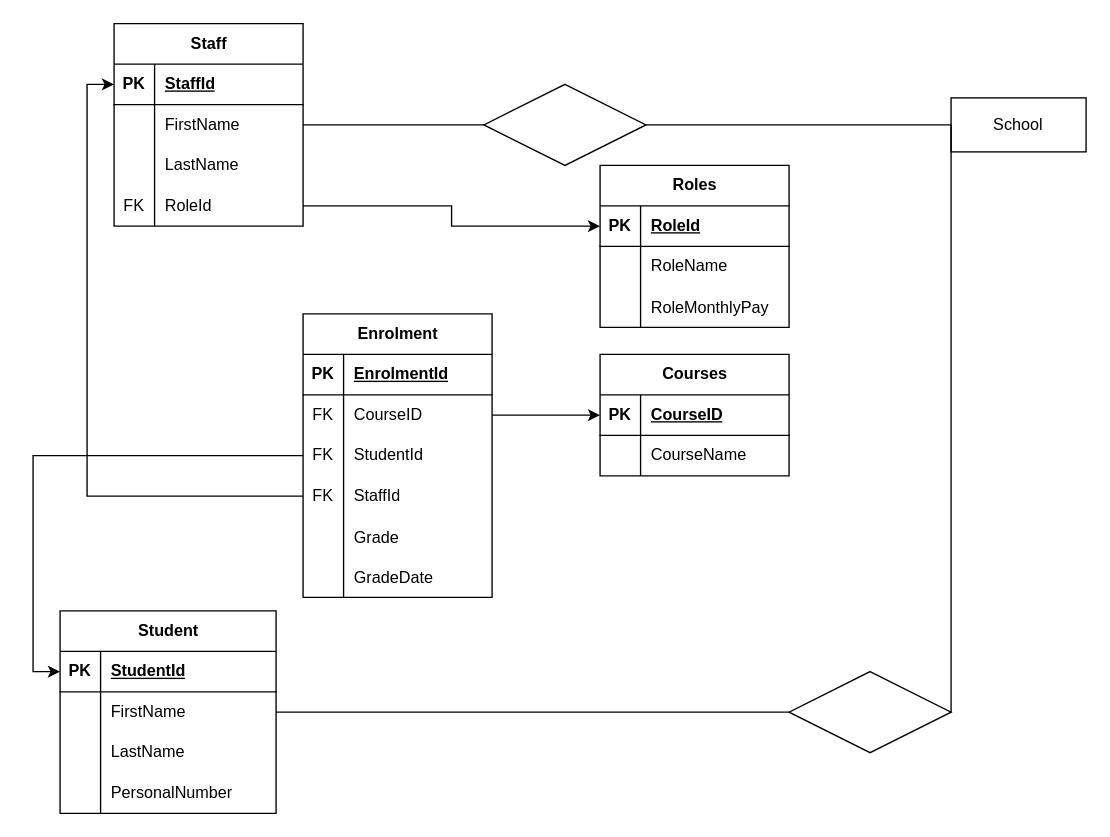
This 1110x837 diagram has some shape labels left out. Each missing label, with the centre of its shape:
Studies in: point 869,711
Works at: point 564,124
